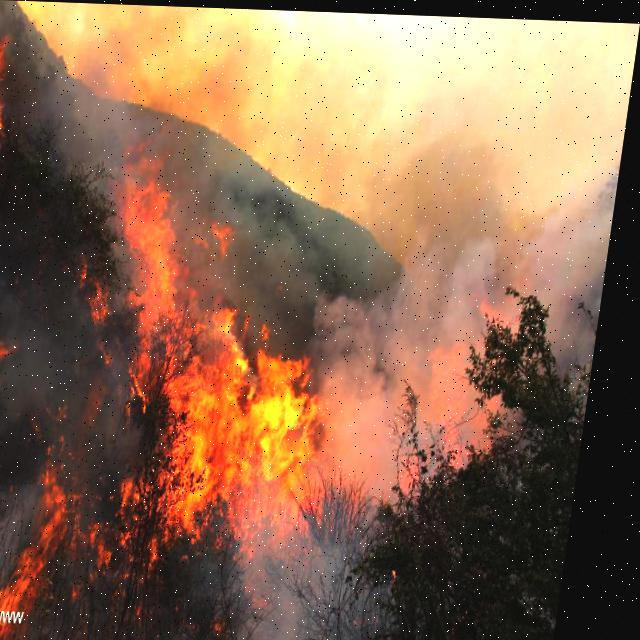Fire: (85, 124, 380, 561), (3, 455, 92, 607), (0, 320, 24, 460), (0, 34, 22, 140)
